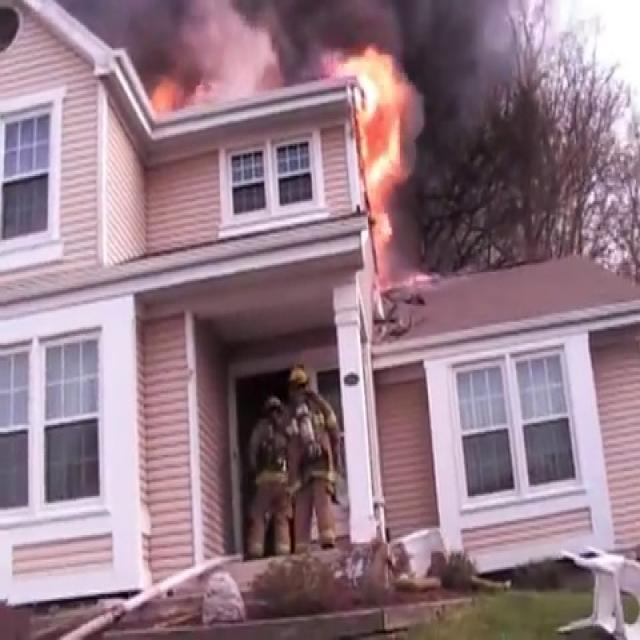Fire: (338, 36, 418, 232)
Smoke: (6, 0, 550, 94)
